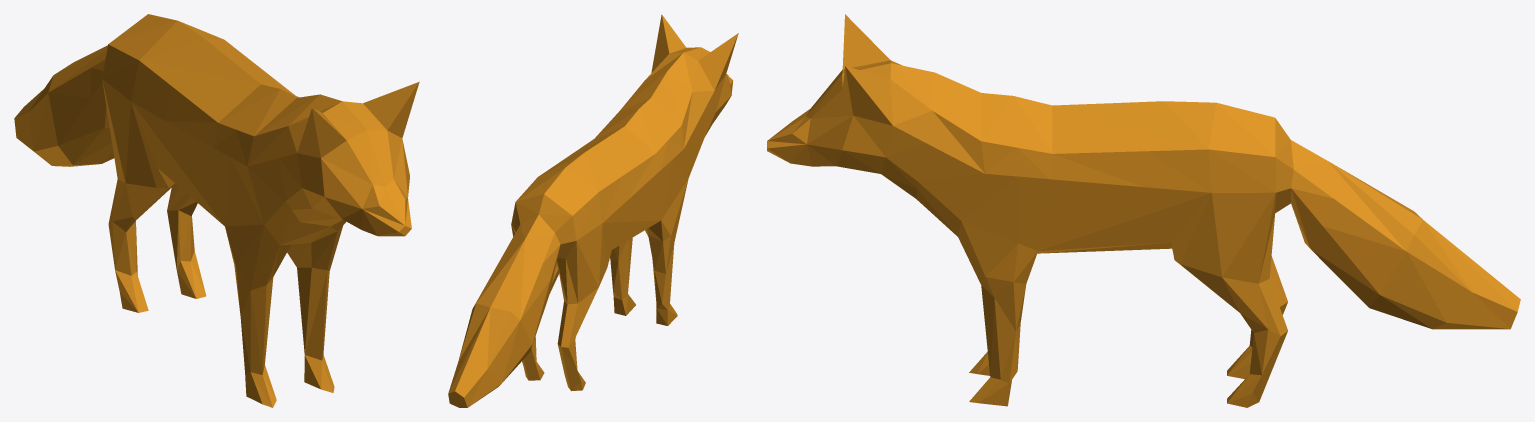
Rendered from fox.obj.
3 views of the same model, side by side, from view 1: azimuth 30°, elevation 25°; view 2: azimuth 150°, elevation 25°; view 3: azimuth 270°, elevation 25° (orthographic). The views are drawn at different scales.
Parts seen in each view (by area): view 1: fox1; view 2: fox1; view 3: fox1.
Part boxes in pixels (x1,y1,x2,y2): fox1: (14,14,419,407); fox1: (448,14,738,407); fox1: (767,14,1520,407).
Size of the model in its own units: 25.19 by 79.03 by 155.
